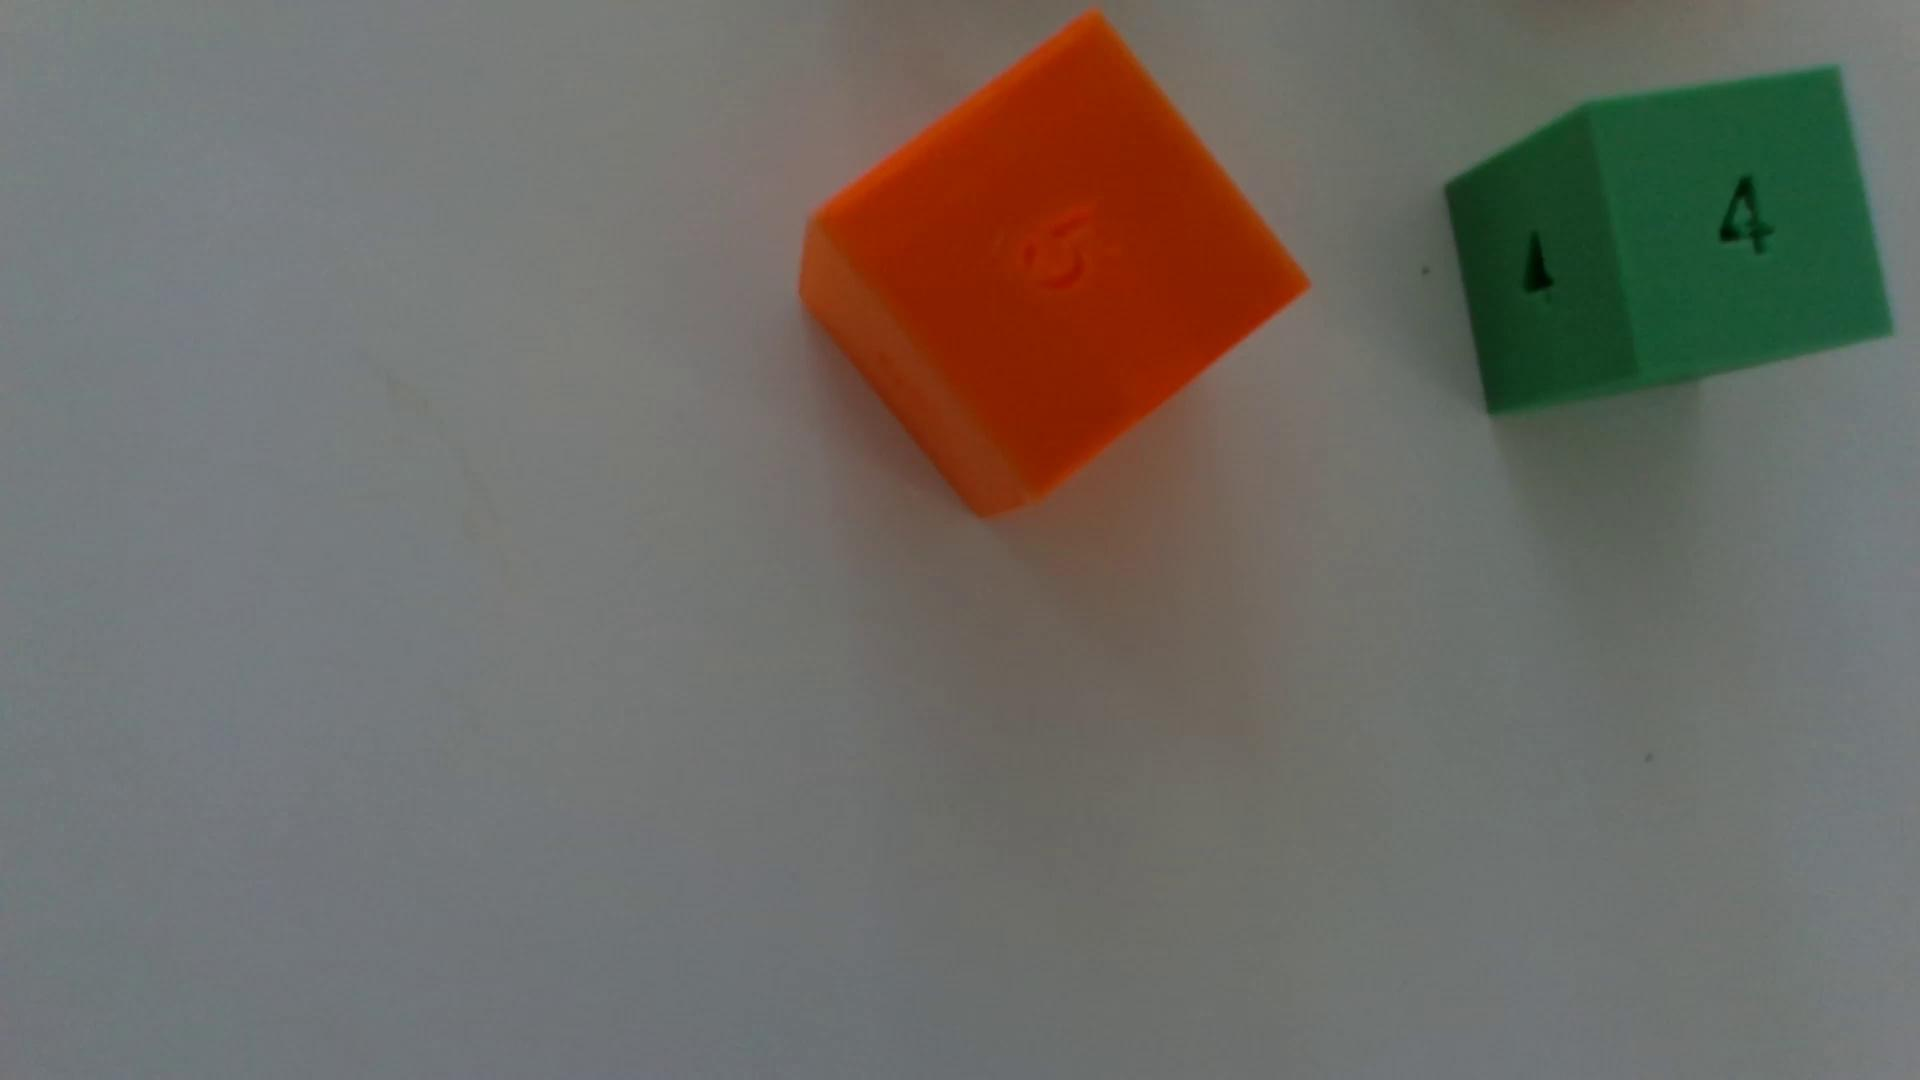green: (1445, 67, 1894, 415)
orange: (802, 12, 1309, 517)
